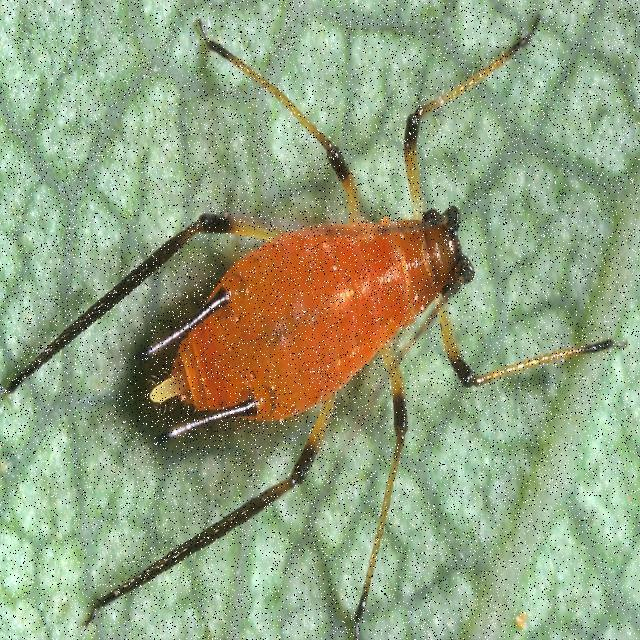Aphids: (55, 27, 599, 554)
